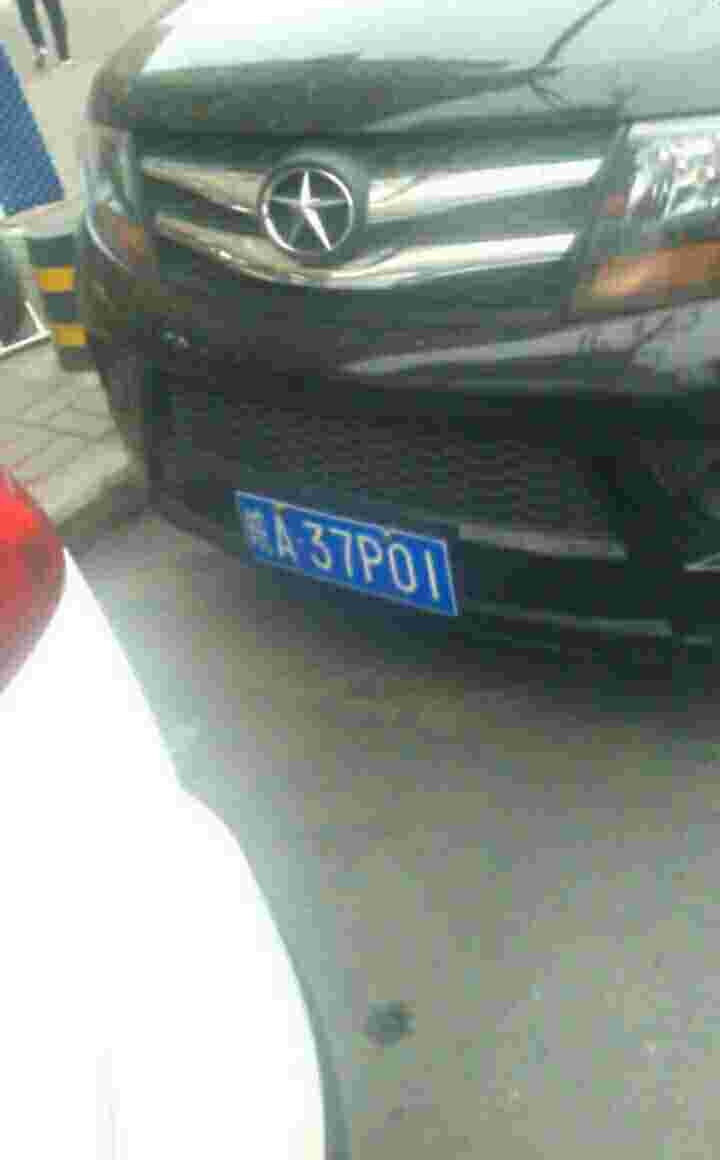car: (233, 487, 455, 618)
